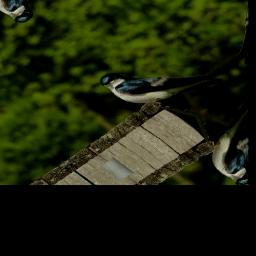Swallow: (94, 33, 228, 126)
